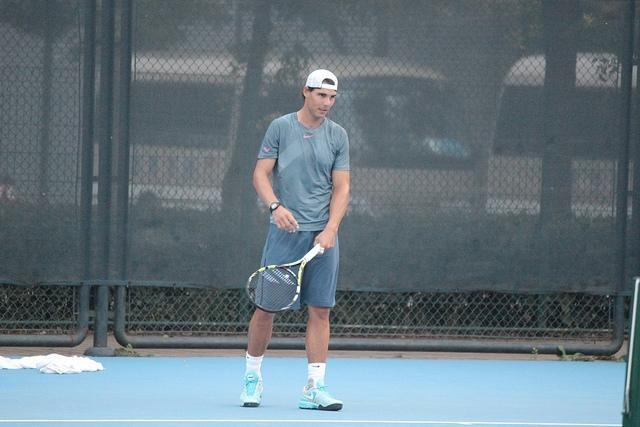bus: (132, 54, 476, 218), (489, 55, 640, 220)
